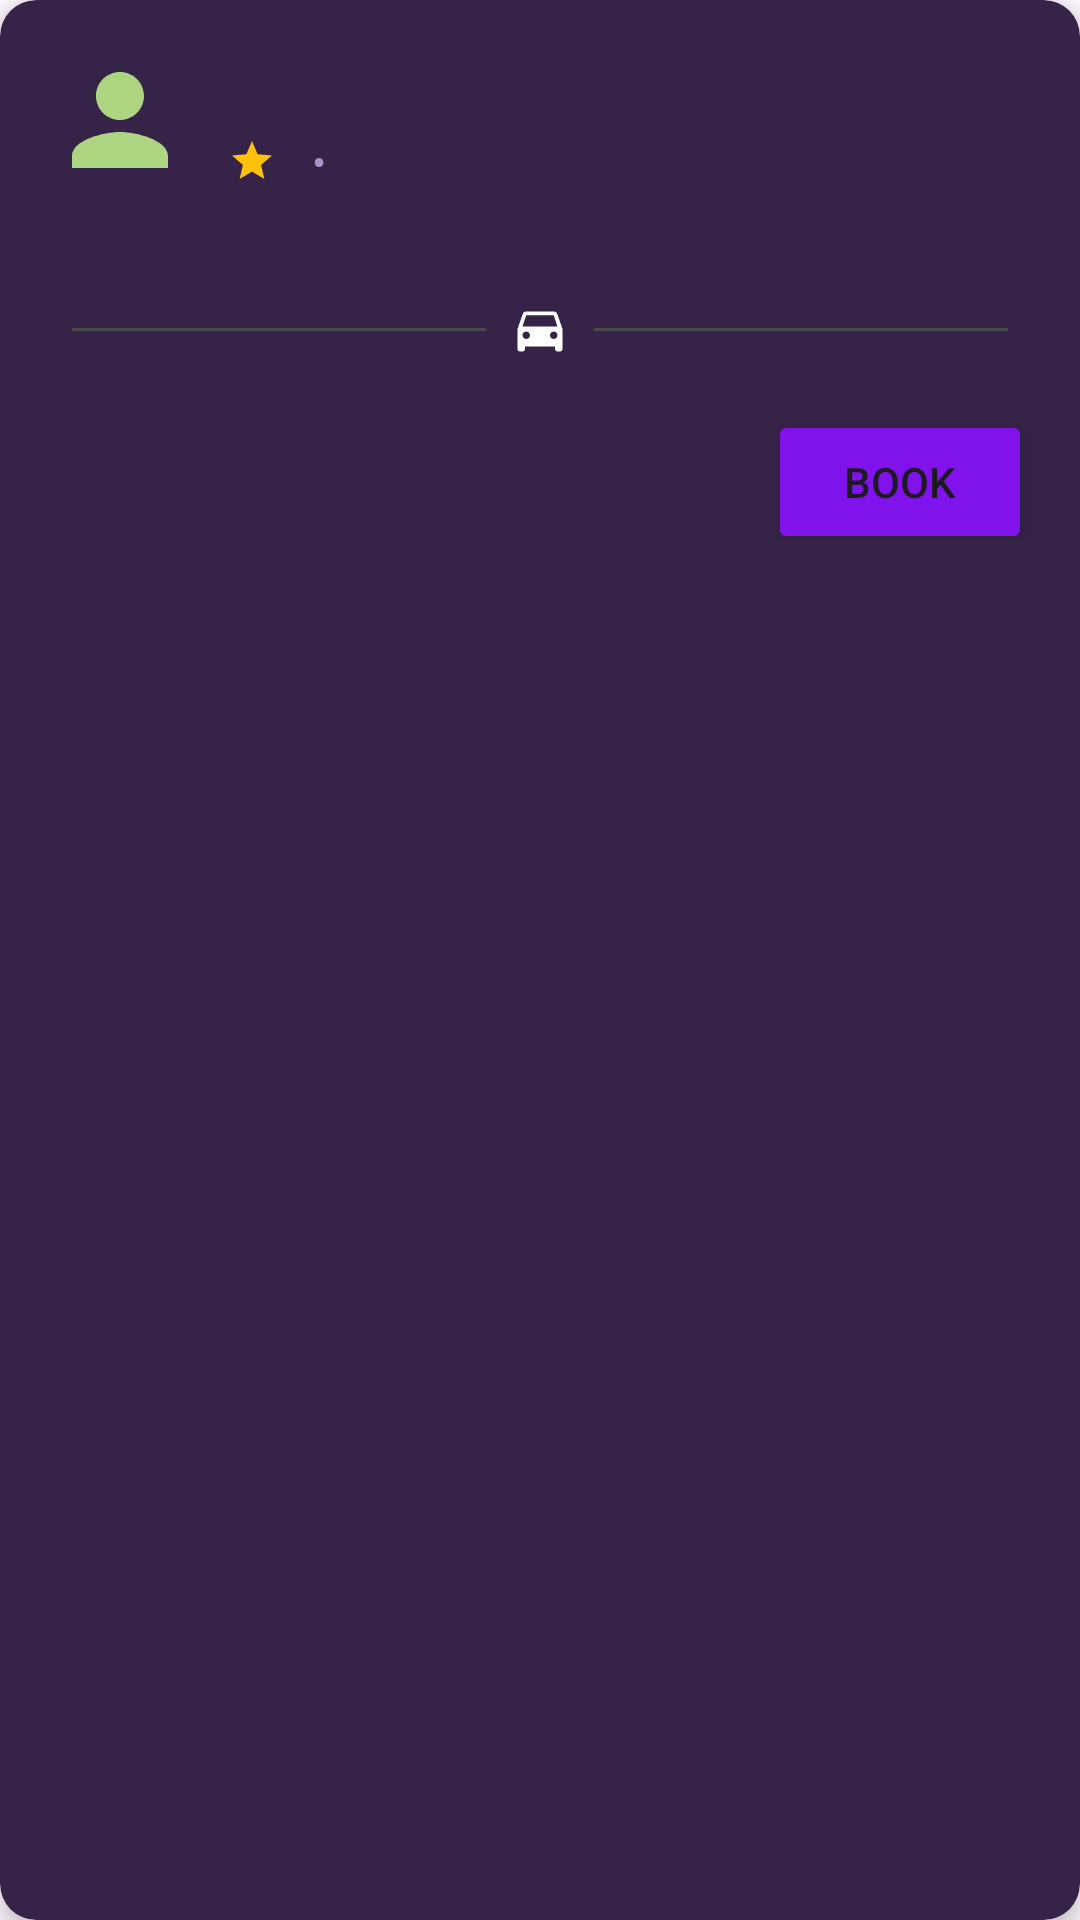

Named icons in this screenshot (1080w x 1920h) and their bounding boxes, (x1, y1, x2, y2):
car connector: (517, 311, 563, 352)
star: (232, 141, 272, 179)
